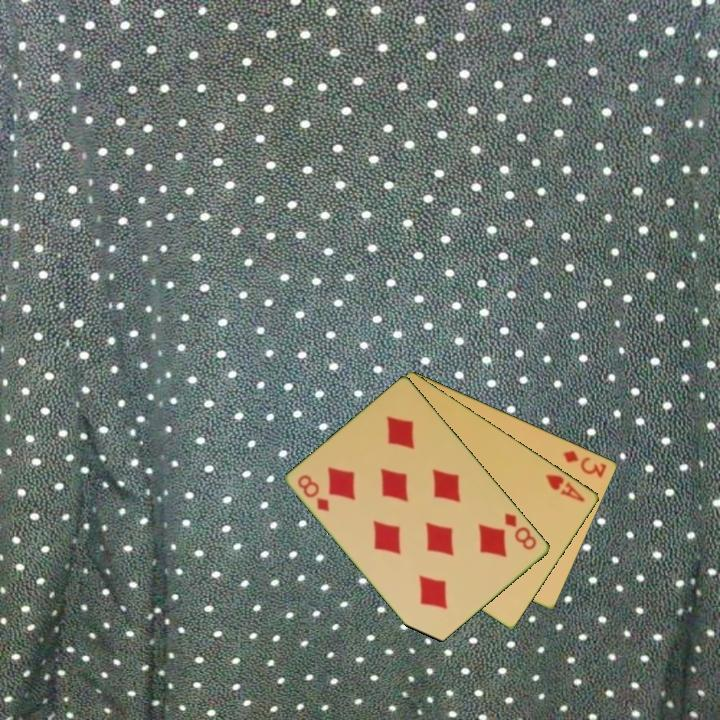3d: (560, 447, 610, 480)
8d: (501, 509, 540, 553), (294, 471, 333, 515)
Ah: (542, 470, 588, 505)
